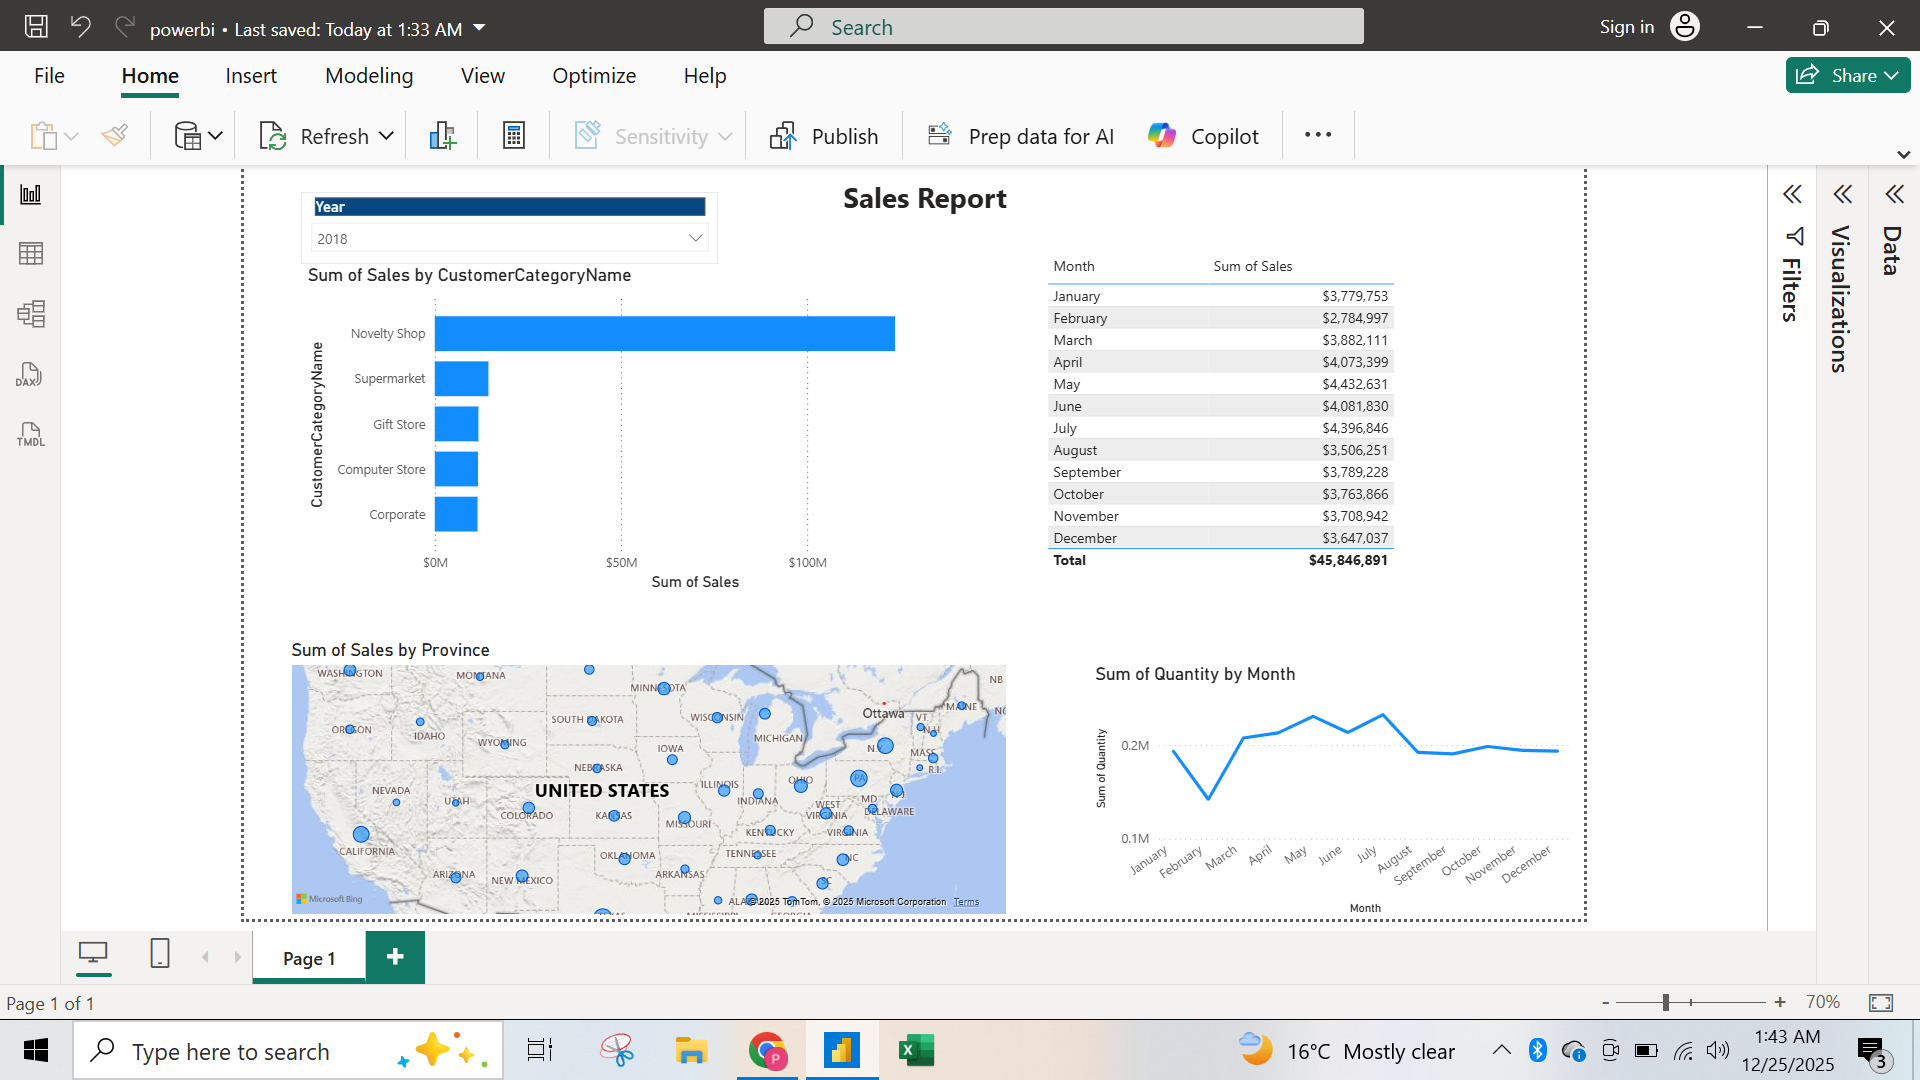

This screenshot's page, from the dashboard's own definition file:
{"tool":"powerbi","page":{"name":"Page 1","canvas":[1280,720],"ordinal":0},"visuals":[{"type":"clusteredBarChart","fields":{"Category":["MasterCustomer1.CustomerCategoryName"],"Y":["Sum(InvoiceData.Sales)"]},"box":[55.6,94.4,647.8,315.6],"z":0},{"type":"slicer","fields":{"Values":["InvoiceData.Date.Variation.Date Hierarchy.Year"]},"box":[54.1,25.4,399.2,68.4],"z":1000},{"type":"map","fields":{"Size":["Sum(InvoiceData.Sales)"],"Category":["MasterCustomer1.Province"]},"box":[40,452.2,692.2,267.8],"z":2000},{"type":"tableEx","fields":{"Values":["InvoiceData.Date.Variation.Date Hierarchy.Month","Sum(InvoiceData.Sales)"]},"box":[762.5,80,351.2,350],"z":3000},{"type":"lineChart","fields":{"Y":["Sum(InvoiceData.Quantity)"],"Category":["InvoiceData.Date.Variation.Date Hierarchy.Month"]},"box":[807.8,475.6,464.4,244.4],"z":4000},{"type":"textbox","box":[1114,80,158,350],"z":5000},{"type":"textbox","box":[566.7,6.7,251.1,53.3],"z":7000}]}

Visuals, with their boxes on the page's 1280x720 design canvas (x1, y1, x2, y2). These are canvas units, not pixel positions in the 1920x1080 screenshot, which may show the page scaled, cropped or inside an application window:
clusteredBarChart - MasterCustomer1.CustomerCategoryName x Sum(InvoiceData.Sales): (left=56, top=94, right=703, bottom=410)
slicer - InvoiceData.Date.Variation.Date Hierarchy.Year: (left=54, top=25, right=453, bottom=94)
map - Sum(InvoiceData.Sales) x MasterCustomer1.Province: (left=40, top=452, right=732, bottom=720)
tableEx - InvoiceData.Date.Variation.Date Hierarchy.Month x Sum(InvoiceData.Sales): (left=762, top=80, right=1114, bottom=430)
lineChart - Sum(InvoiceData.Quantity) x InvoiceData.Date.Variation.Date Hierarchy.Month: (left=808, top=476, right=1272, bottom=720)
textbox: (left=1114, top=80, right=1272, bottom=430)
textbox: (left=567, top=7, right=818, bottom=60)
